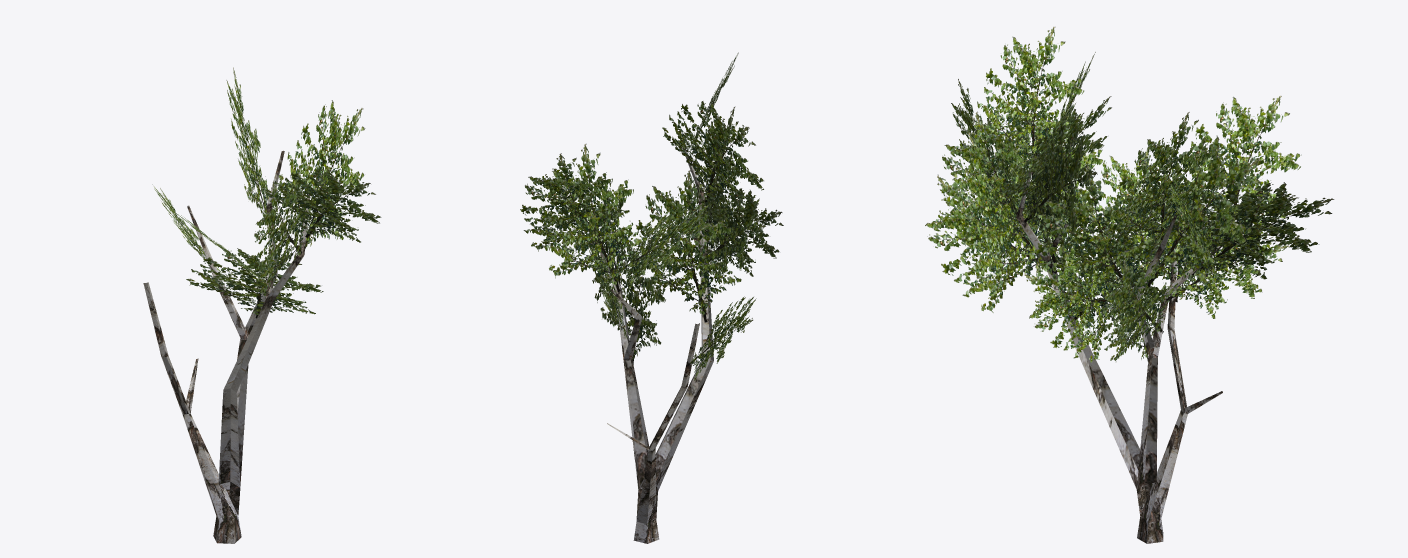
File: tree05.glb
3 renders of one model, left to right at view 1: azimuth 30°, elevation 25°; view 2: azimuth 150°, elevation 25°; view 3: azimuth 270°, elevation 25°, orthographic. The views are drawn at different scales.
Parts seen in each view (by area): view 1: treee05; view 2: treee05; view 3: treee05.
Part boxes in pixels (left/top/right/bottom): treee05: left=143, top=67, right=381, bottom=543; treee05: left=520, top=52, right=783, bottom=543; treee05: left=925, top=26, right=1334, bottom=543.
Bounding box in the file's own units: 51.32 × 81.45 × 74.89.
1 material, 1 textured.
